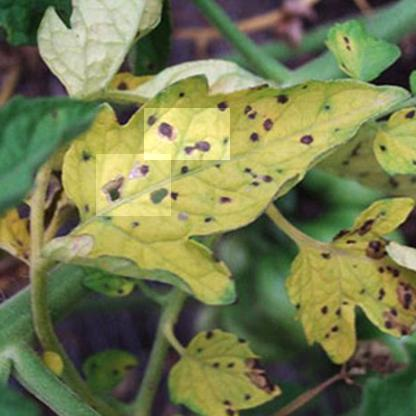black-spot: (96, 154, 171, 216), (144, 108, 230, 160), (240, 103, 328, 152)
